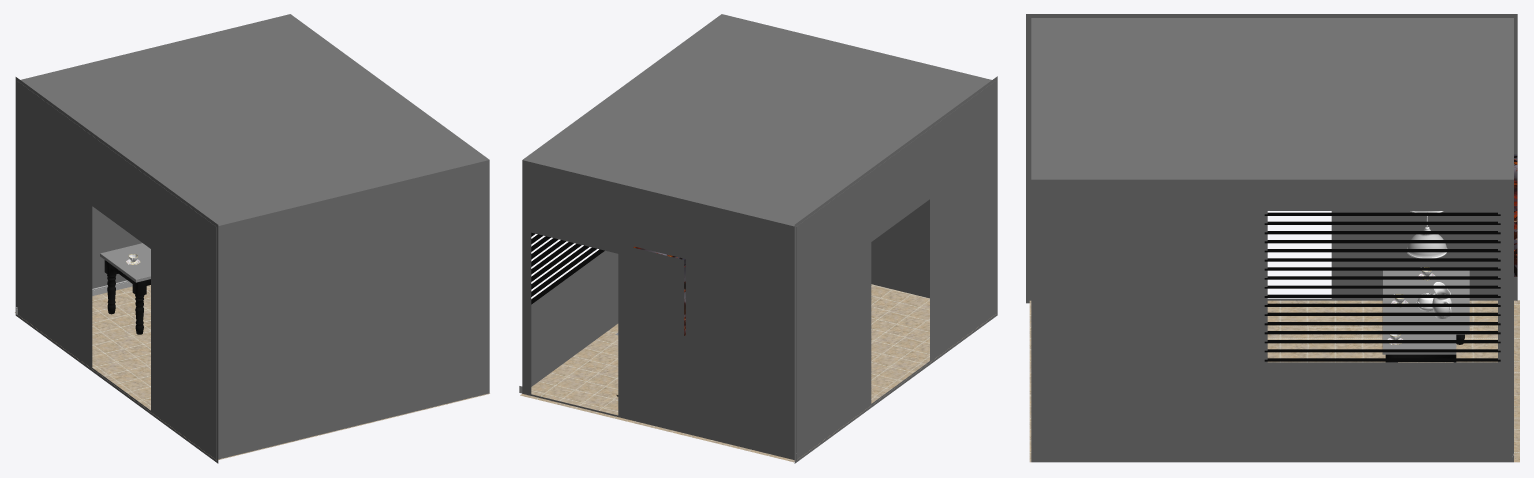
File: big_house_br.glb
3 views of the same model, side by side, from view 1: azimuth 30°, elevation 25°; view 2: azimuth 150°, elevation 25°; view 3: azimuth 270°, elevation 25° (orthographic). The views are drawn at different scales.
Visible parts, largest first — view 1: 39_Walls, 52_Walls, 38_FloorTiles, 37_WhiteMarble, 08_BlackPaint; view 2: 39_Walls, 52_Walls, 38_FloorTiles, 06_None; view 3: 39_Walls, 06_None, 52_Walls, 38_FloorTiles, 37_WhiteMarble, 00_FrostedGlass.
Boxes of the visible parts, left/top/right/bottom form: 39_Walls: left=21, top=14, right=489, bottom=459; 52_Walls: left=15, top=77, right=218, bottom=463; 38_FloorTiles: left=15, top=285, right=489, bottom=460; 37_WhiteMarble: left=100, top=243, right=150, bottom=282; 08_BlackPaint: left=104, top=260, right=150, bottom=334; 39_Walls: left=522, top=14, right=991, bottom=460; 52_Walls: left=794, top=76, right=997, bottom=463; 38_FloorTiles: left=520, top=284, right=991, bottom=462; 06_None: left=531, top=232, right=604, bottom=304; 39_Walls: left=1031, top=18, right=1513, bottom=462; 06_None: left=1264, top=212, right=1500, bottom=361; 52_Walls: left=1026, top=14, right=1517, bottom=303; 38_FloorTiles: left=1029, top=300, right=1519, bottom=462; 37_WhiteMarble: left=1382, top=270, right=1469, bottom=354; 00_FrostedGlass: left=1407, top=234, right=1446, bottom=257.
Size of the model in its own units: 3.83 by 3.15 by 4.87.
Materials: 15 (3 with a texture image).
